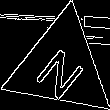N_NE: (30, 34, 91, 99)
